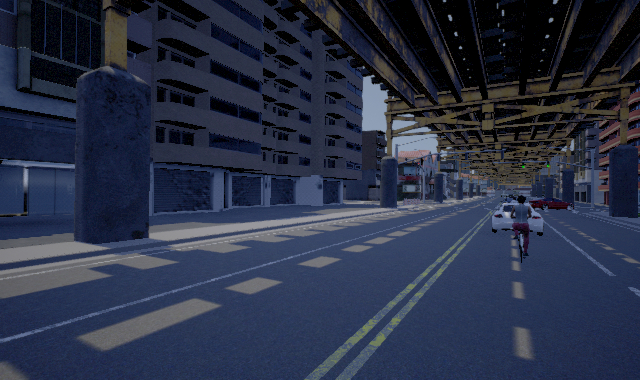bike: (510, 196, 532, 263)
traffic_light: (522, 162, 524, 168), (547, 161, 549, 167)
vehicle: (492, 201, 544, 238), (528, 198, 574, 211)
